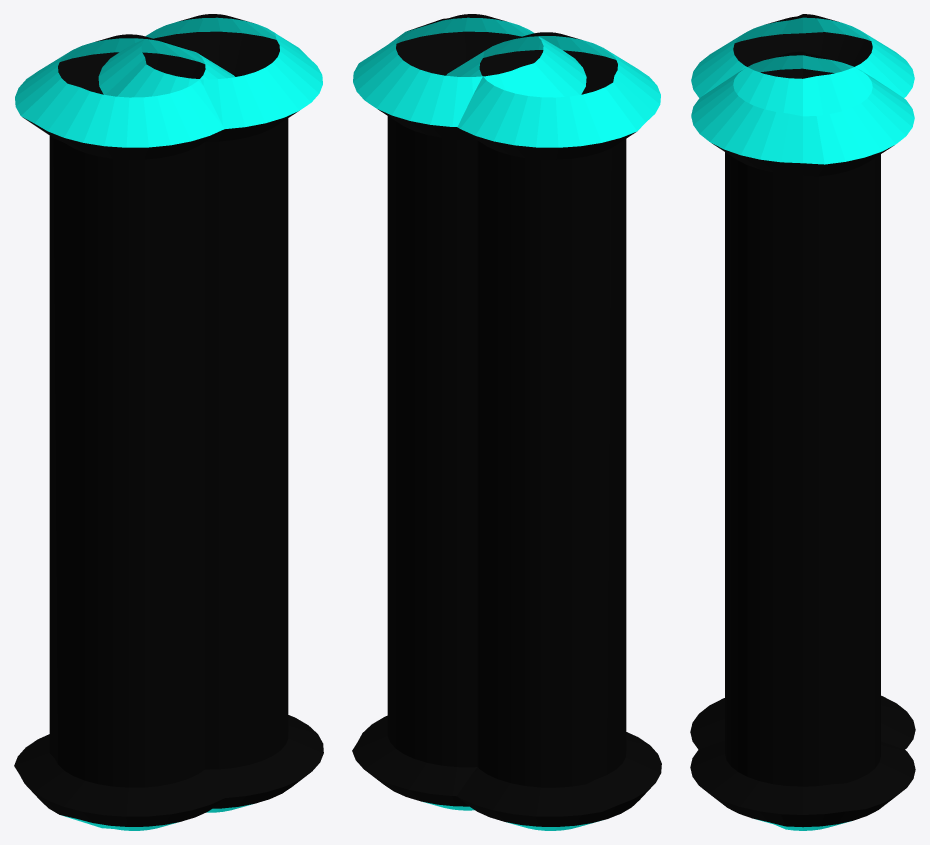
Rendered from pantalladesplegando.fbx.
3 views of the same model, side by side, from view 1: azimuth 30°, elevation 25°; view 2: azimuth 150°, elevation 25°; view 3: azimuth 270°, elevation 25° (orthographic). The views are drawn at different scales.
Parts seen in each view (by area): view 1: Cylinder, Cylinder.001; view 2: Cylinder, Cylinder.001; view 3: Cylinder.001, Cylinder.
Boxes of the visible parts, bbox=[...] form: Cylinder: bbox=[14, 34, 234, 830]; Cylinder.001: bbox=[98, 14, 323, 812]; Cylinder: bbox=[446, 32, 661, 830]; Cylinder.001: bbox=[352, 14, 586, 810]; Cylinder.001: bbox=[690, 51, 915, 830]; Cylinder: bbox=[690, 14, 915, 749].
Size of the model in its own units: 136 by 357 by 97.78.
